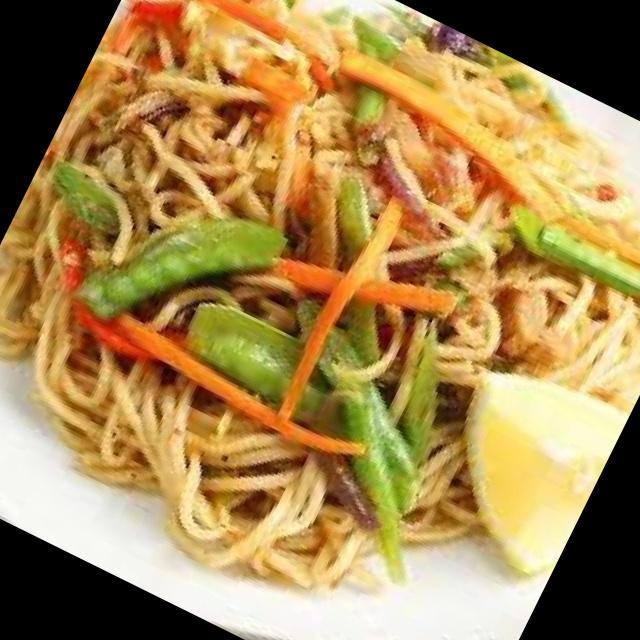pancit bihon: (0, 0, 639, 577)
